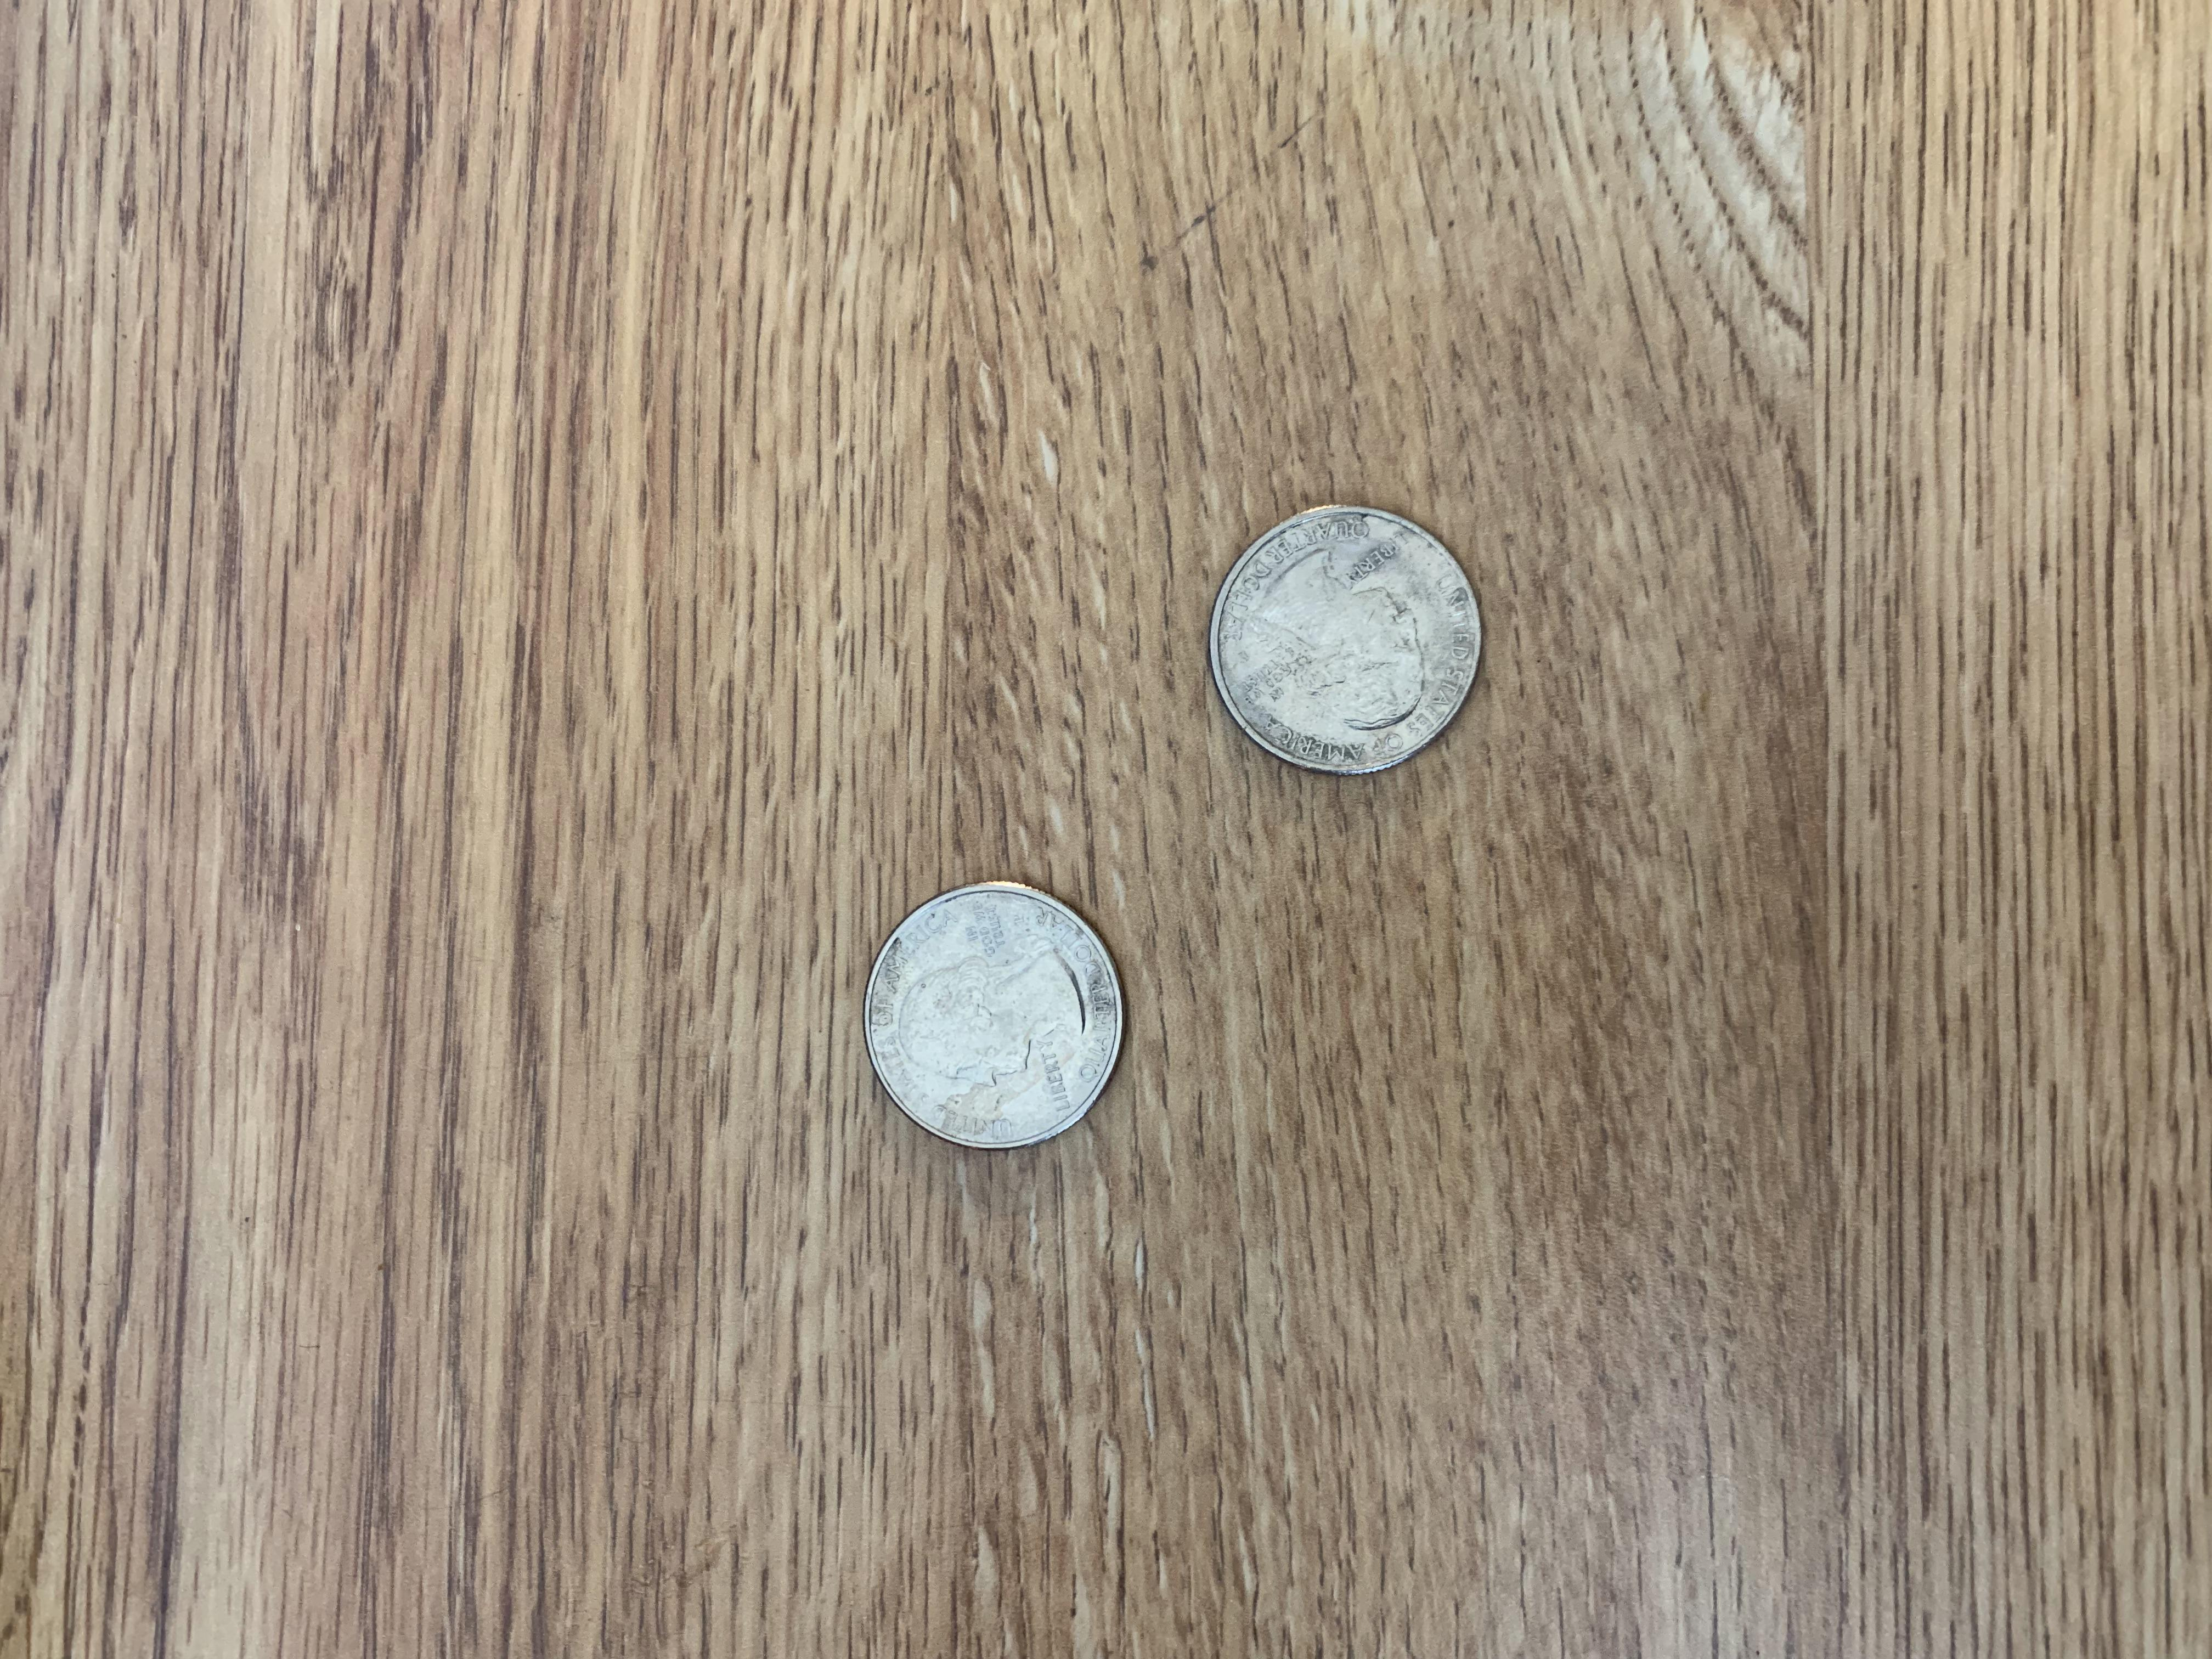Quarter: (1200, 495, 1491, 791), (852, 868, 1132, 1161)
